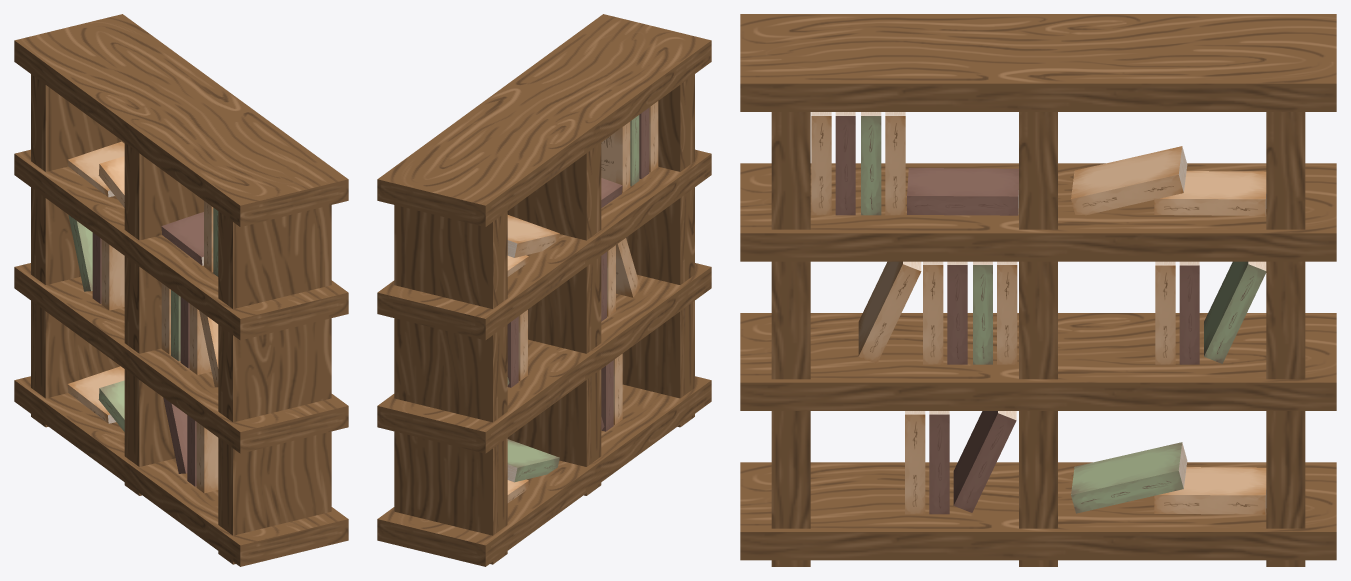
File: BookShelf_2.fbx
3 renders of one model, left to right at view 1: azimuth 30°, elevation 25°; view 2: azimuth 150°, elevation 25°; view 3: azimuth 270°, elevation 25°, orthographic. The views are drawn at different scales.
Parts seen in each view (by area): view 1: Cube.005; view 2: Cube.005; view 3: Cube.005.
Boxes of the visible parts, box(x1,y1,x2,y2) form: Cube.005: box(14, 14, 348, 566); Cube.005: box(377, 14, 711, 566); Cube.005: box(740, 14, 1336, 566).
Bounding box in the file's own units: 200 × 651 × 723.
